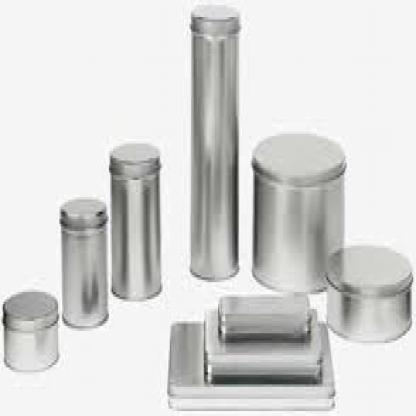METAL: (250, 131, 346, 292), (167, 318, 334, 408), (190, 5, 238, 275), (324, 243, 412, 343), (202, 309, 322, 382), (109, 143, 161, 297), (59, 199, 109, 328), (216, 290, 310, 340), (1, 292, 58, 370)
